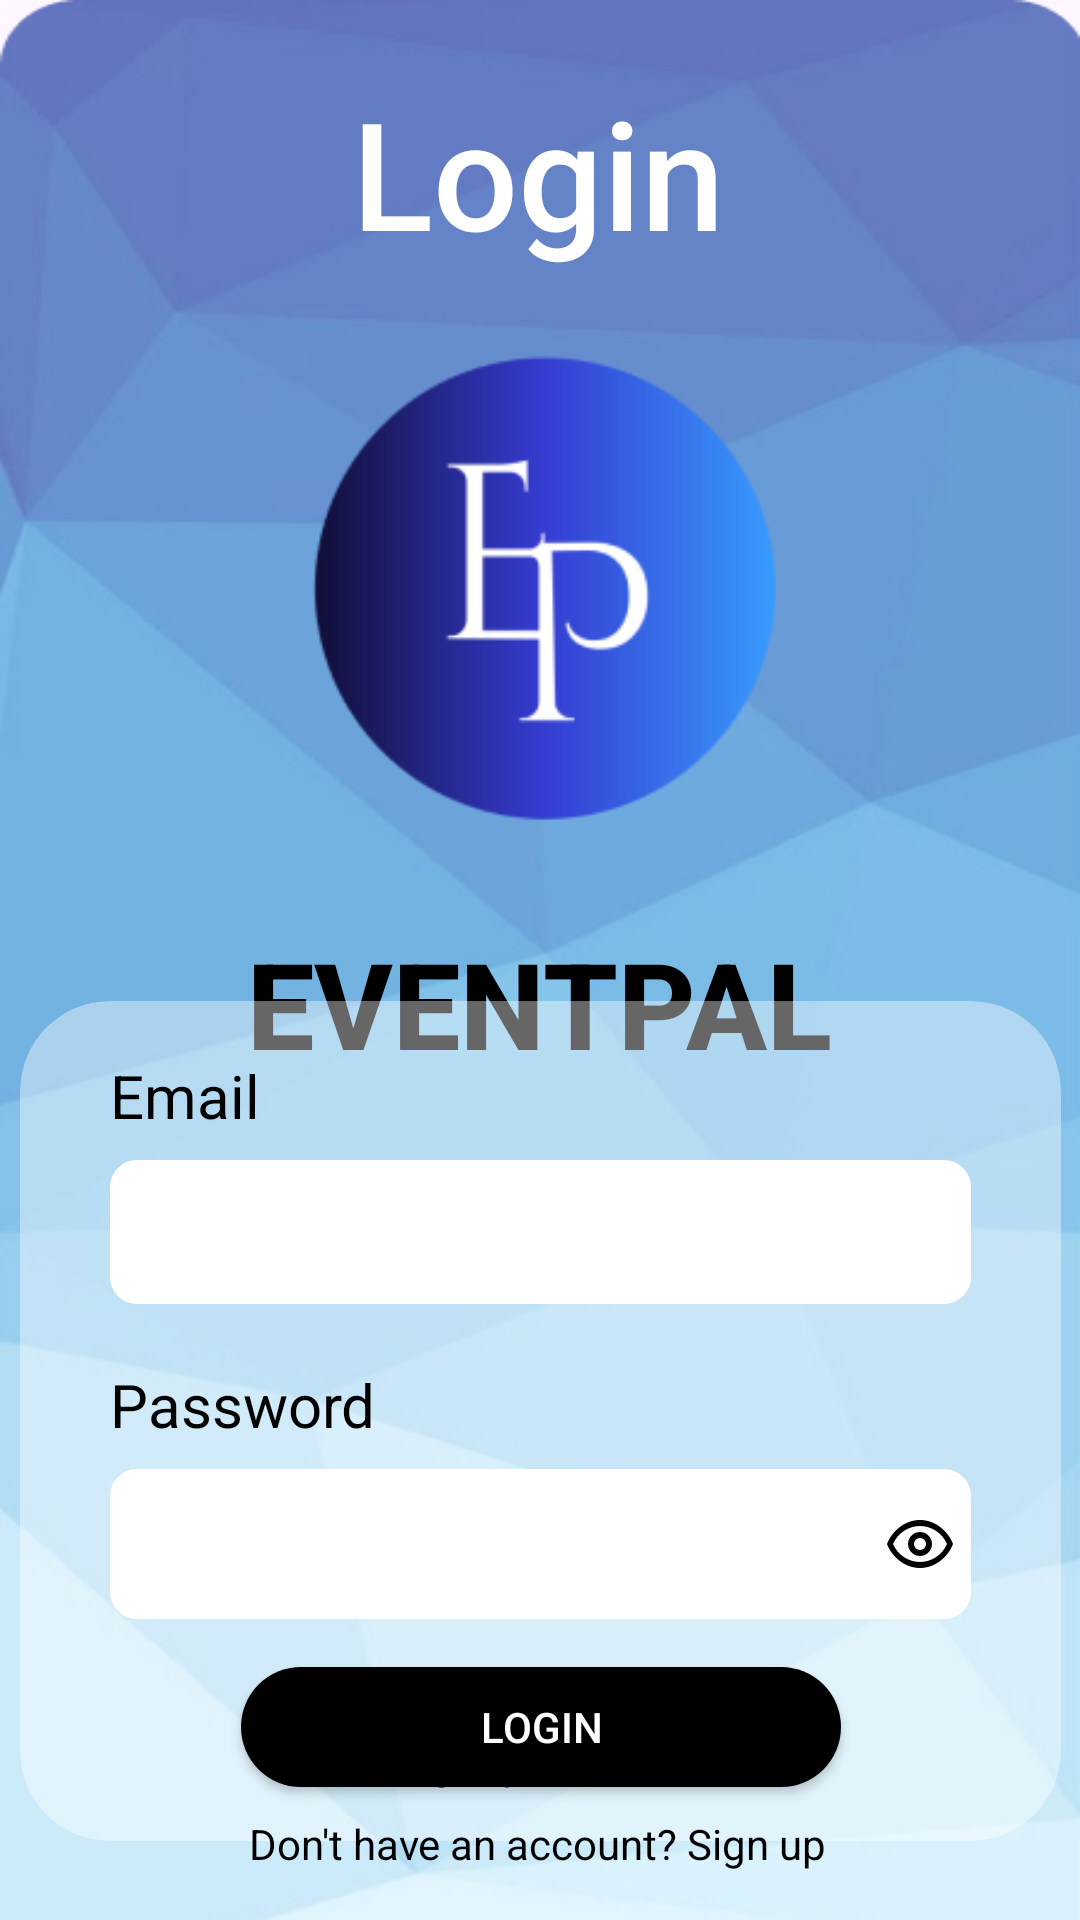

Point at icon controls on the screen. Image size 1080*1920, points as (x,y).
eye open: (920,1544)
